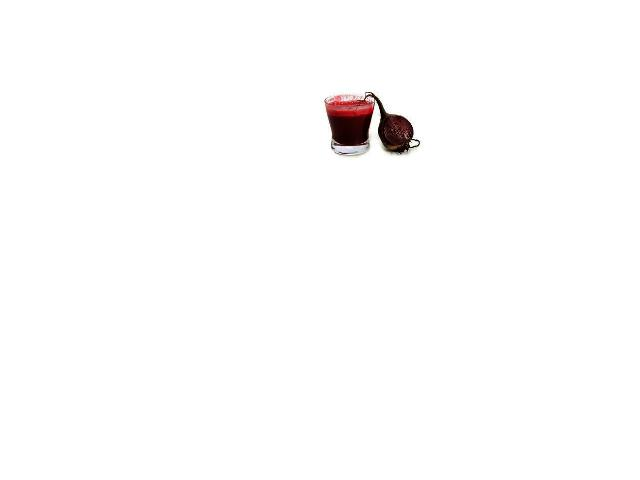beet: (356, 92, 419, 153)
